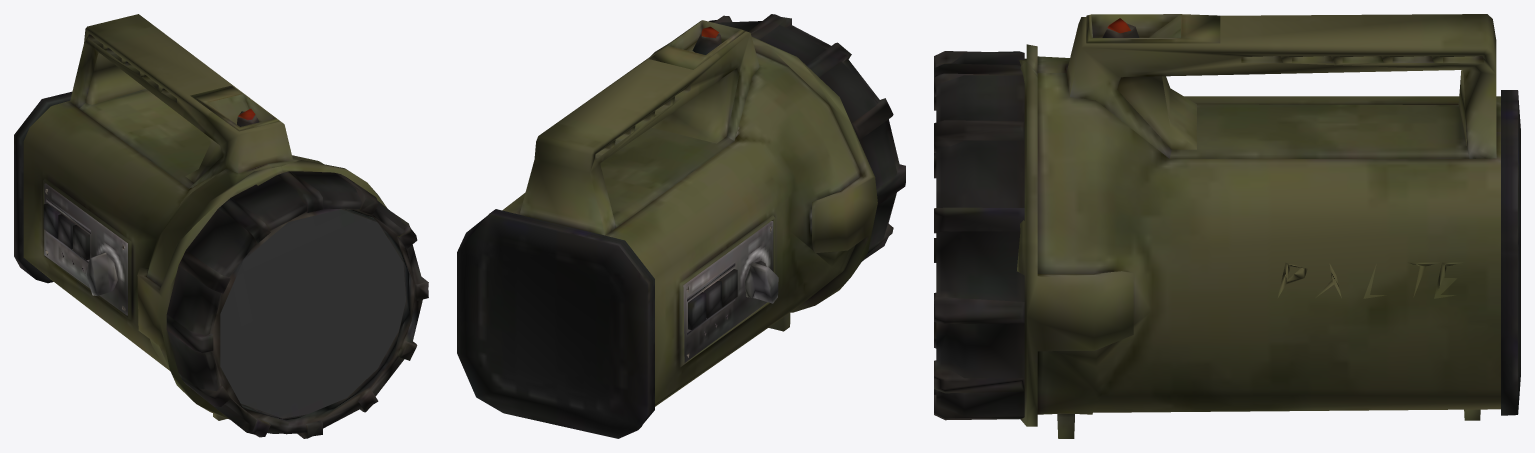
Rendered from portable_searchlight.glb.
3 views of the same model, side by side, from view 1: azimuth 30°, elevation 25°; view 2: azimuth 150°, elevation 25°; view 3: azimuth 270°, elevation 25° (orthographic). The views are drawn at different scales.
Visible parts, largest first — view 1: portable_searchlight; view 2: portable_searchlight; view 3: portable_searchlight.
Boxes of the visible parts, x1,y1,x2,y2 form: portable_searchlight: (14, 14, 428, 438); portable_searchlight: (457, 14, 905, 438); portable_searchlight: (934, 14, 1520, 438).
Bounding box in the file's own units: 0.1653 × 0.1849 × 0.2534.
Materials: 2 (2 with a texture image).
